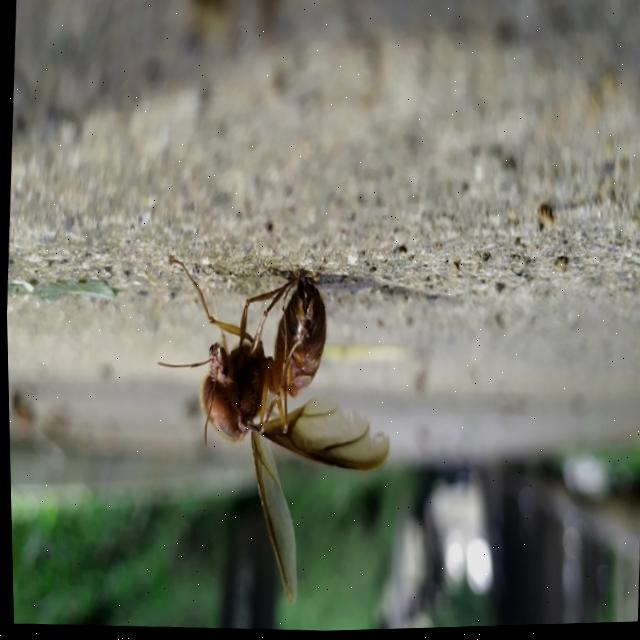Dead-Male-Alate: (141, 254, 400, 615)
